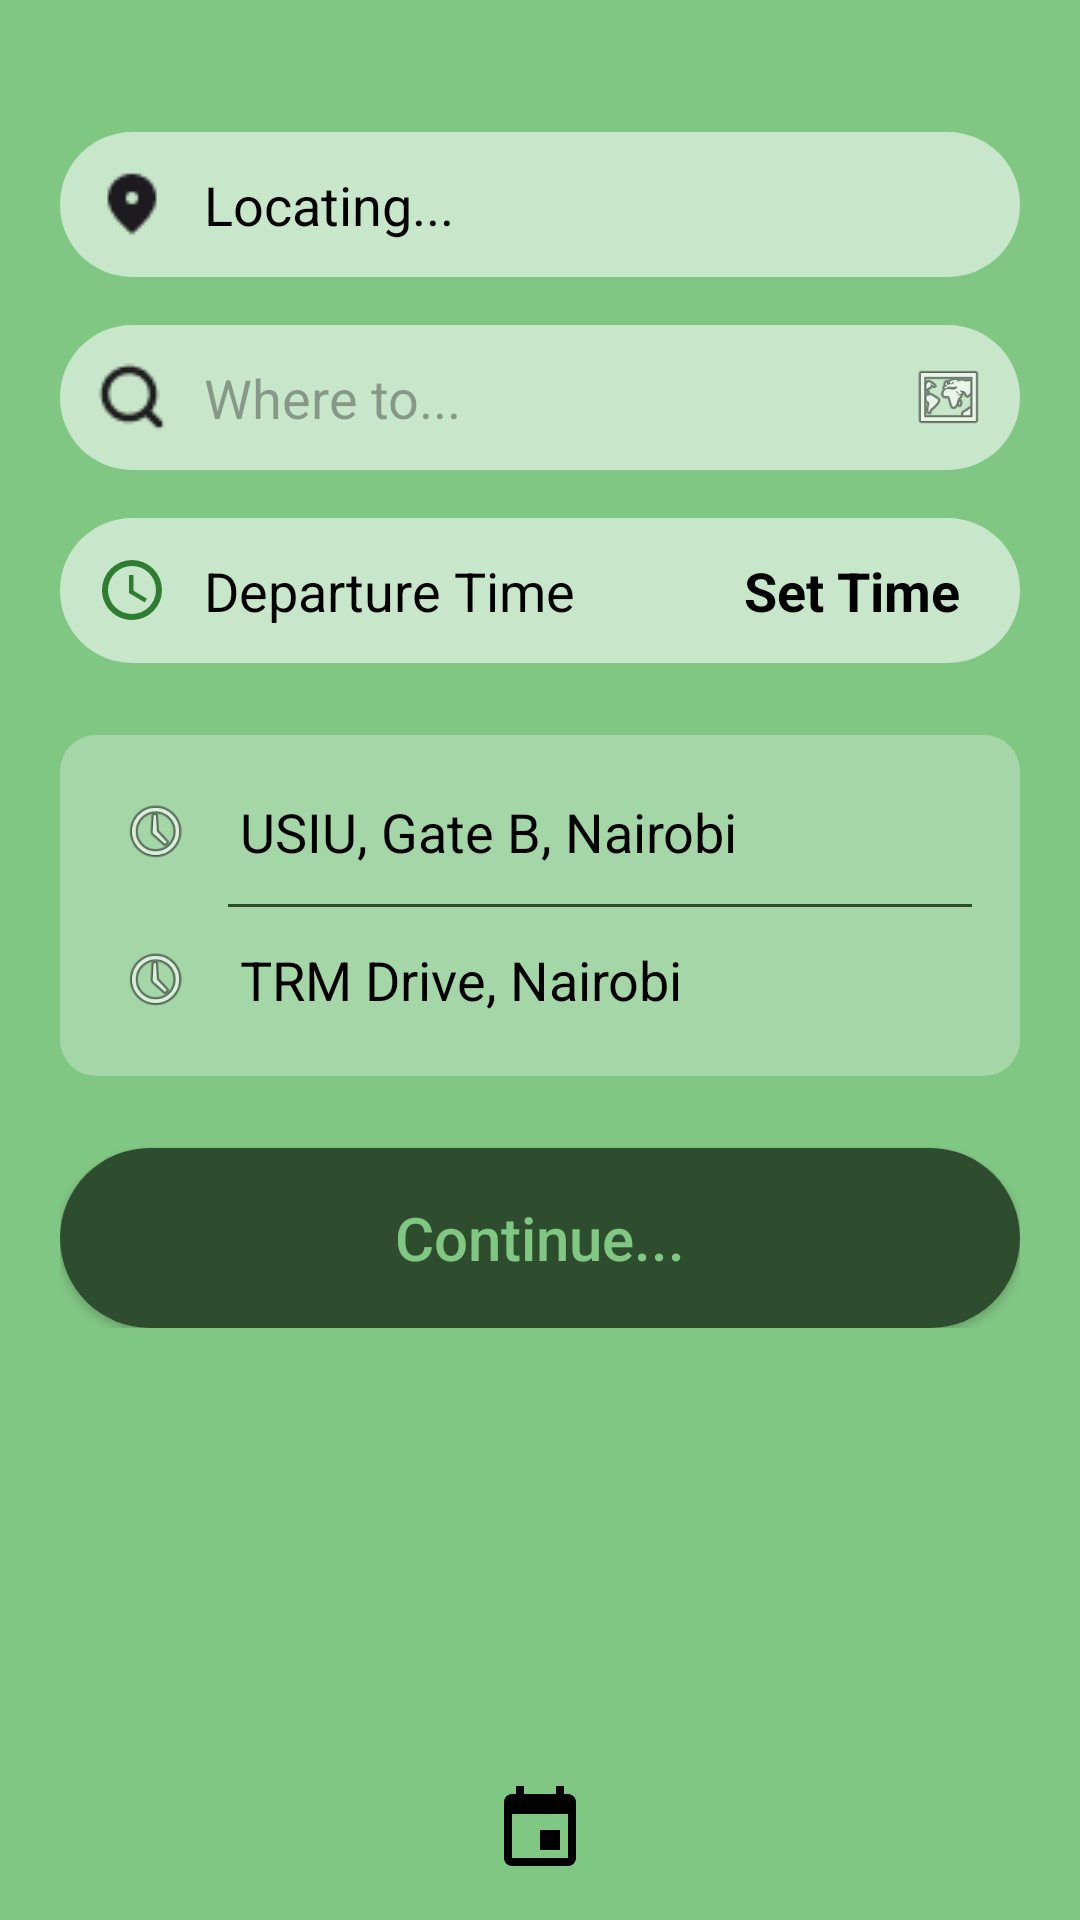

Where icons sit on this 1080w x 1920h app screen, as (x1, y1, x2, y2):
Calendar: (504, 1786, 576, 1866)
Current Location Icon: (107, 173, 157, 235)
Map Icon: (918, 371, 978, 423)
Recent Icon: (130, 805, 182, 857), (130, 953, 182, 1005)
Search Icon: (99, 364, 164, 429)
